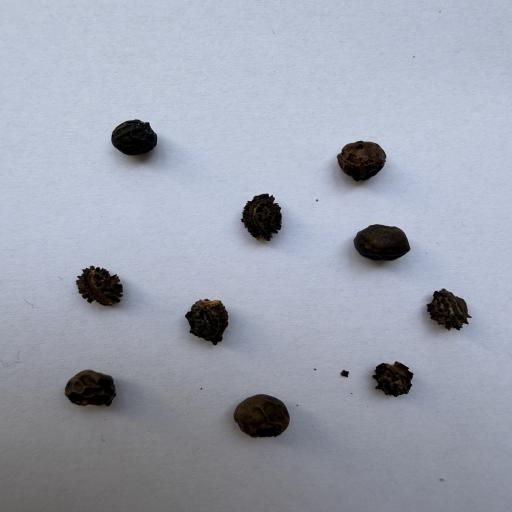Black_pepper: (233, 393, 288, 438), (352, 222, 410, 262), (335, 139, 388, 182), (62, 368, 116, 407), (111, 119, 158, 155)
papaya_seed: (181, 274, 274, 362), (229, 170, 310, 257), (420, 274, 486, 347), (78, 257, 146, 327), (362, 356, 442, 400)
